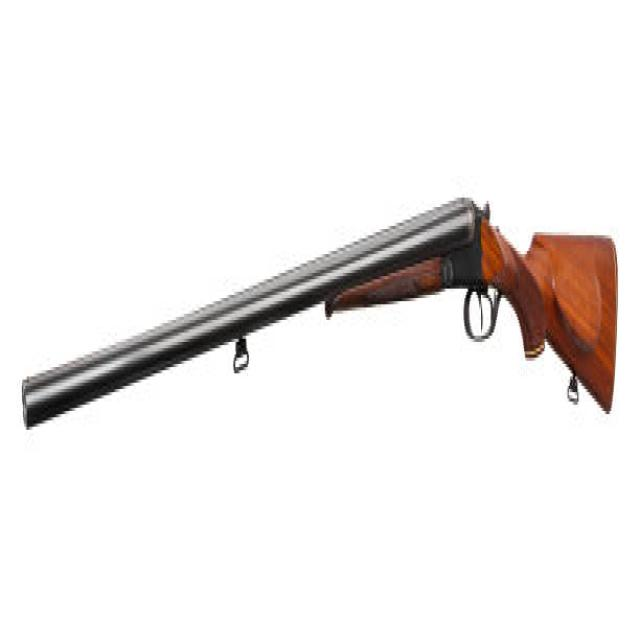rifle: (19, 170, 631, 468)
